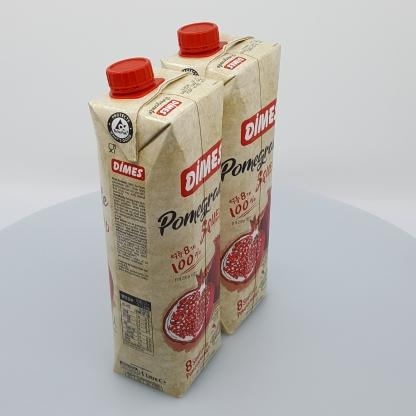DIMES------1000ML: (87, 57, 224, 398), (161, 22, 282, 335)
